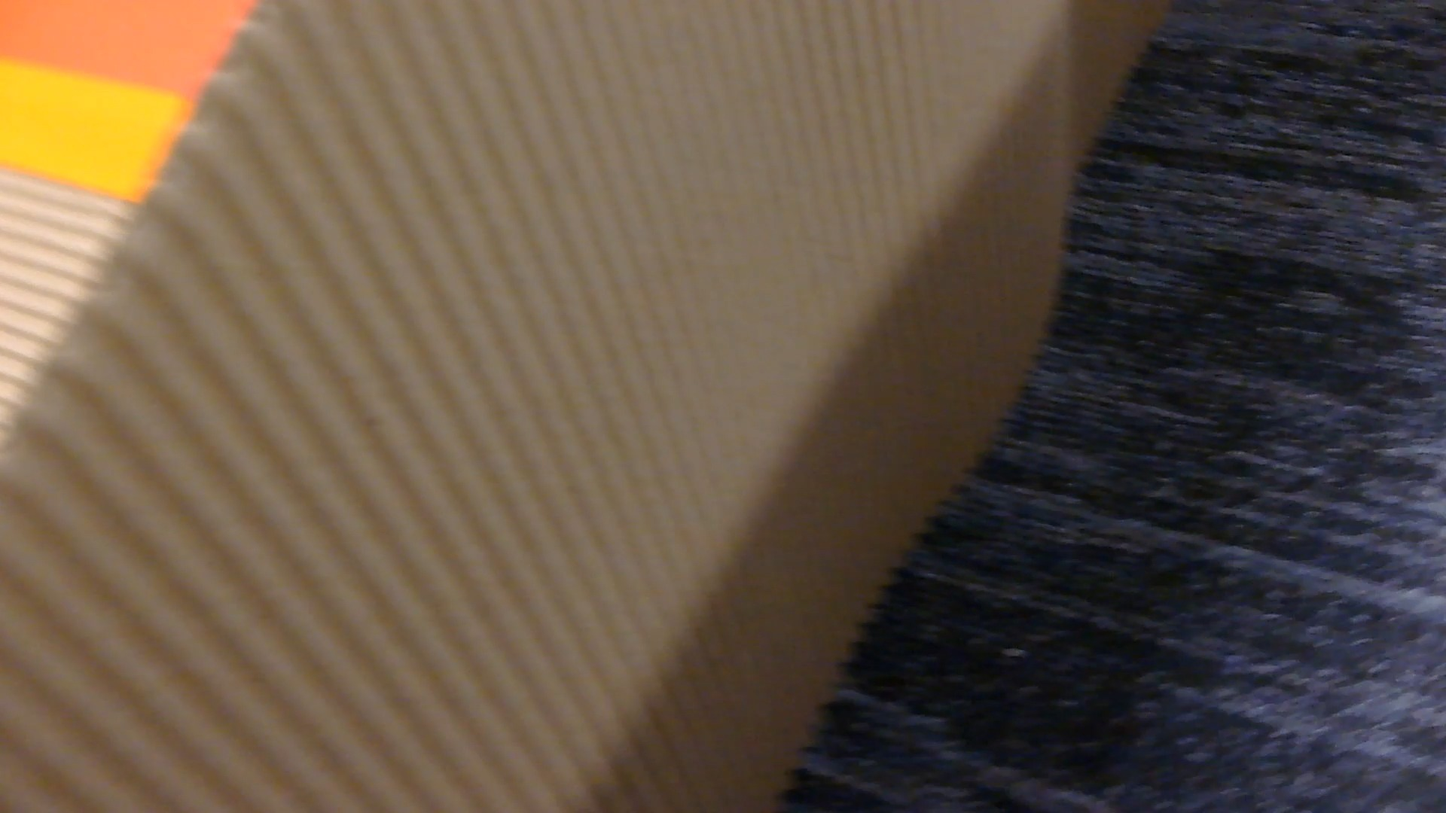Ramp: (0, 0, 1168, 812)
